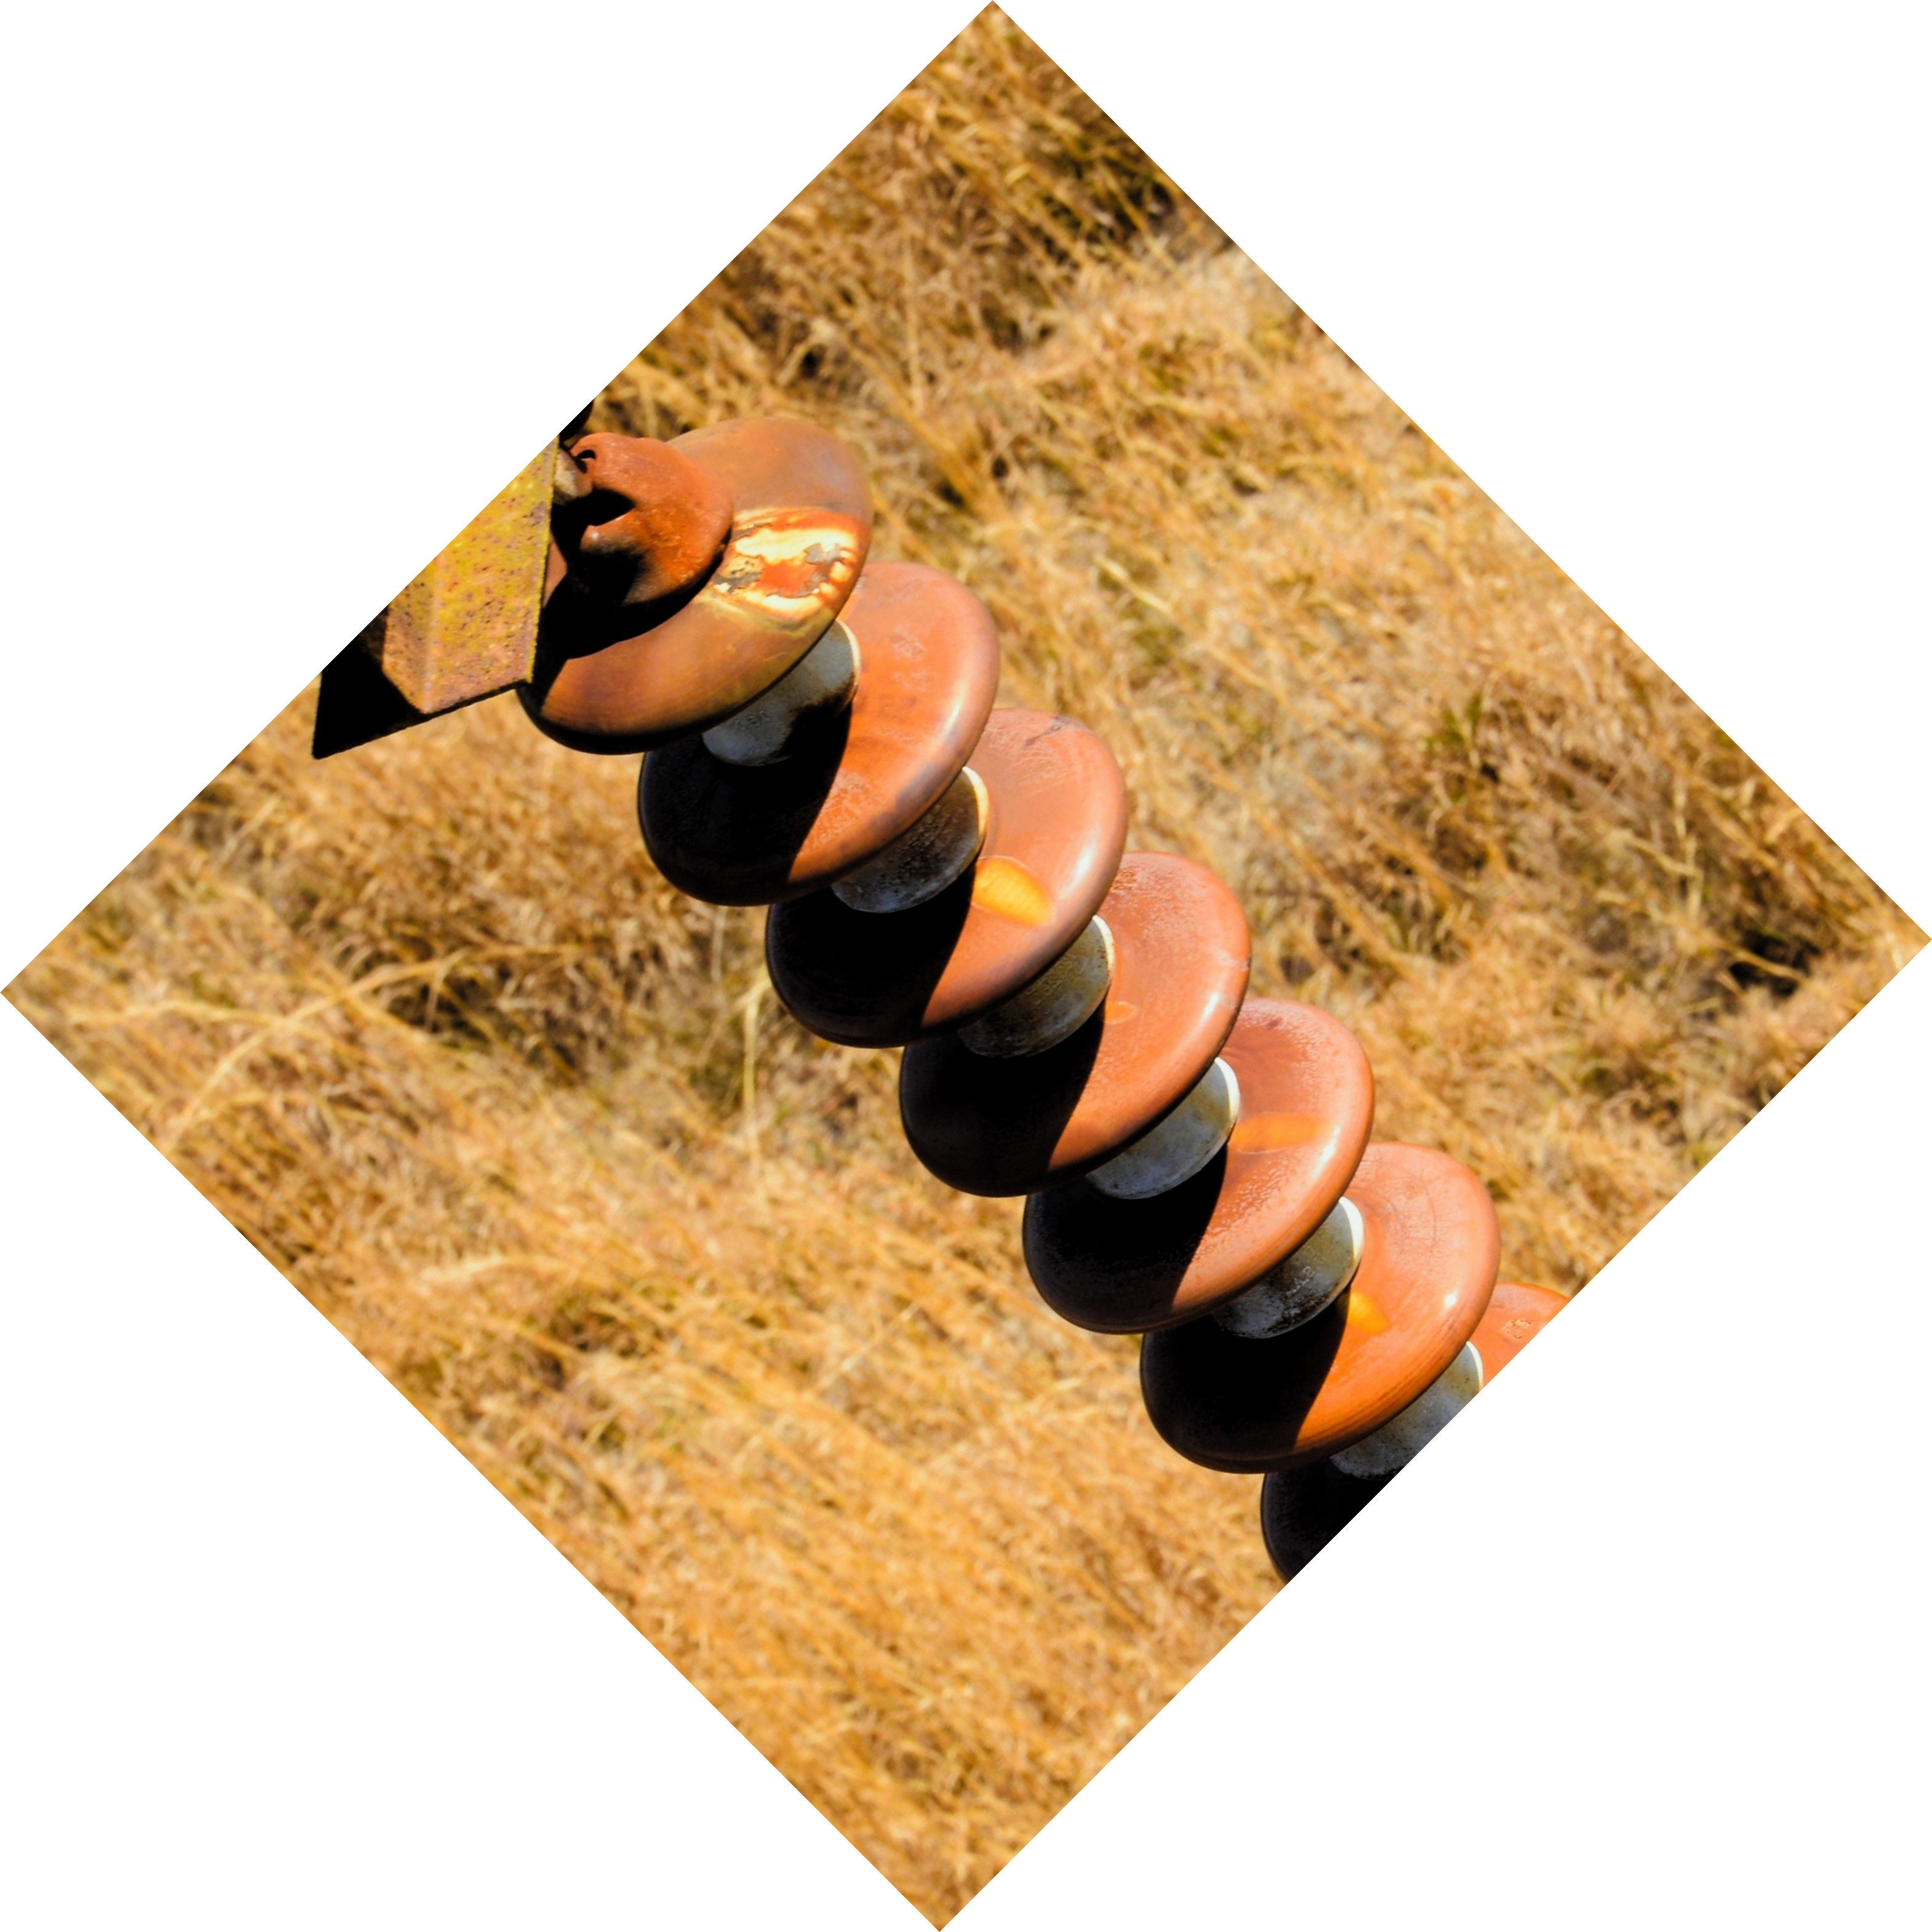Insulator flashover: (515, 398, 890, 757)
